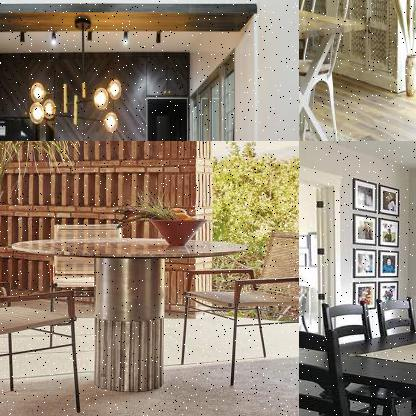table: (8, 232, 254, 395), (299, 299, 415, 415), (299, 0, 369, 140)
